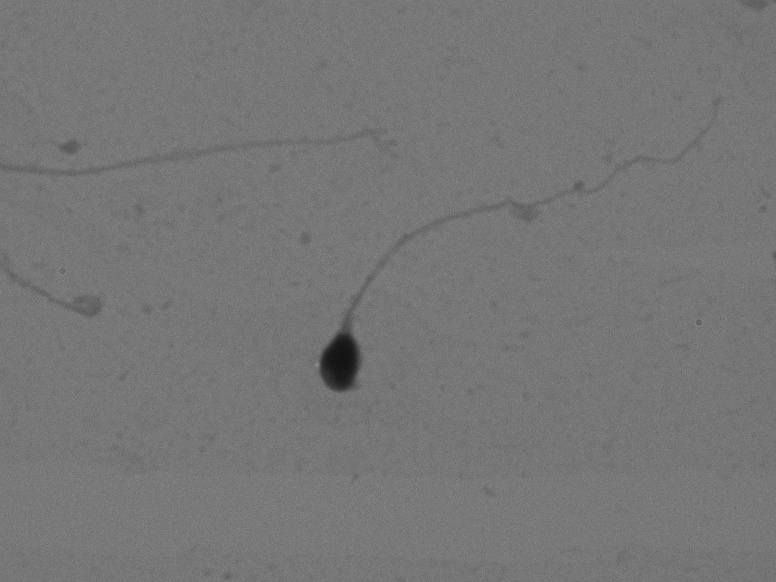Abnormal: (295, 95, 728, 409)
